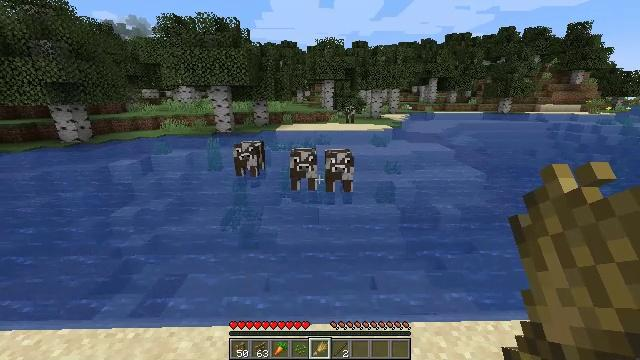cow: (324, 150, 354, 192), (289, 147, 317, 189), (235, 140, 265, 179), (345, 107, 355, 123)
